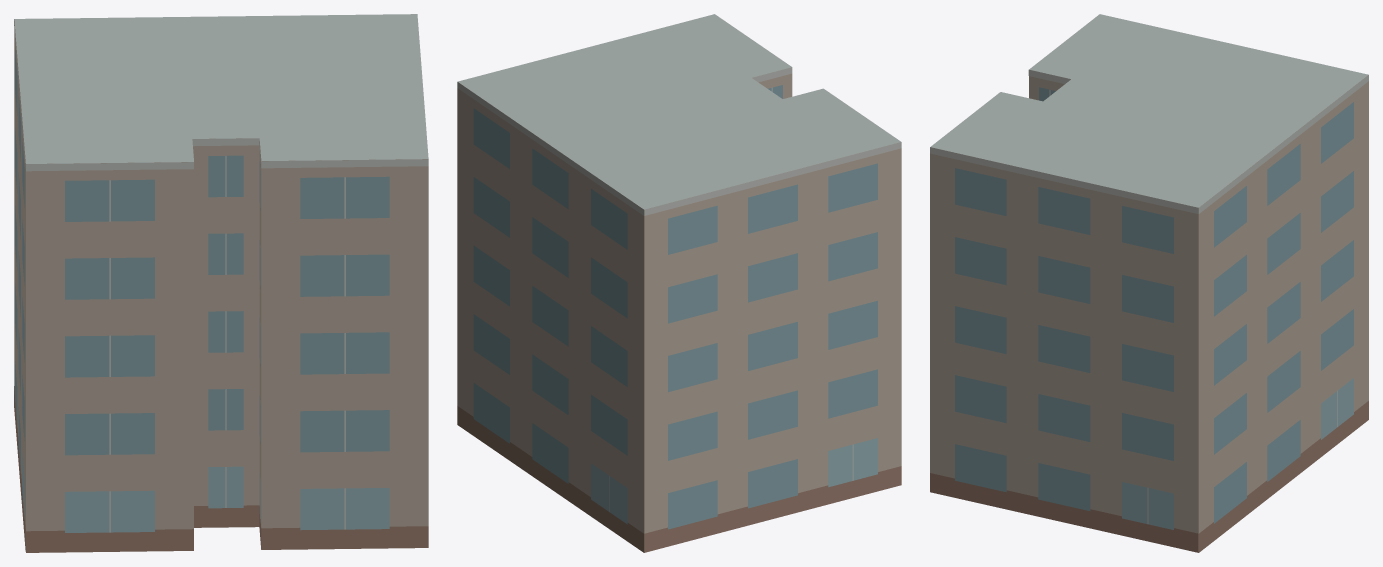
Rendered from survey-upis-33001497.glb.
3 views of the same model, side by side, from view 1: azimuth 30°, elevation 25°; view 2: azimuth 150°, elevation 25°; view 3: azimuth 270°, elevation 25° (orthographic). The views are drawn at different scales.
Visible parts, largest first — view 1: survey-upis-33001497.tmp; view 2: survey-upis-33001497.tmp; view 3: survey-upis-33001497.tmp.
Boxes of the visible parts, x1,y1,x2,y2 form: survey-upis-33001497.tmp: (14,14,428,552); survey-upis-33001497.tmp: (457,14,901,552); survey-upis-33001497.tmp: (930,14,1368,552).
Size of the model in its own units: 15.91 by 13.2 by 15.22.
